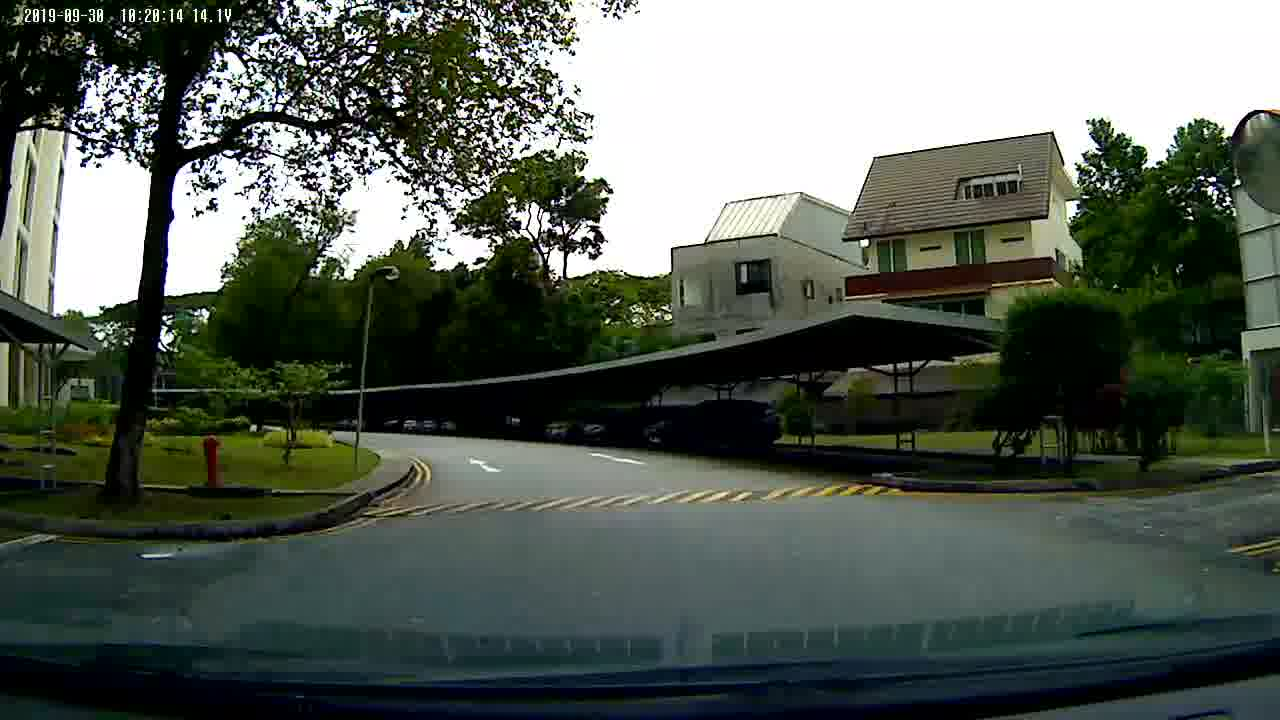car: (639, 399, 787, 462)
